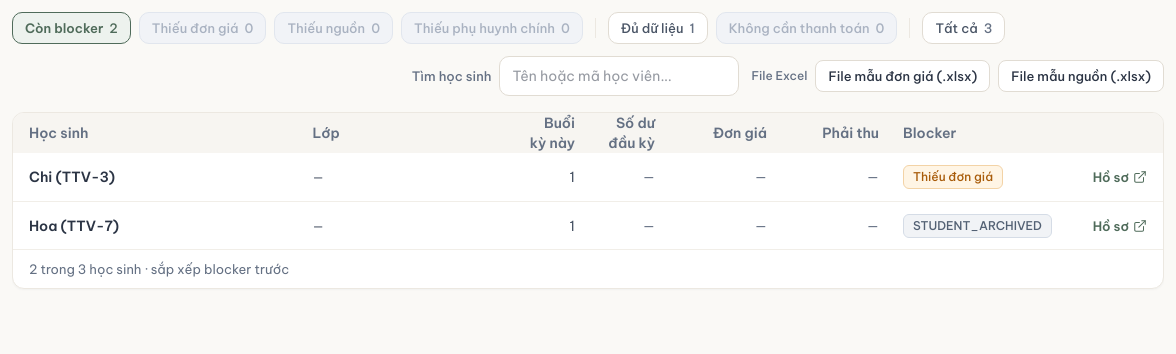
Test: TuitionReadinessTable · design 15a › shows an unknown blocker code as a neutral badge and never as ready
Click the button "Tất cả 3".
click(964, 28)  # box x1=922 y1=12 x2=1006 y2=44
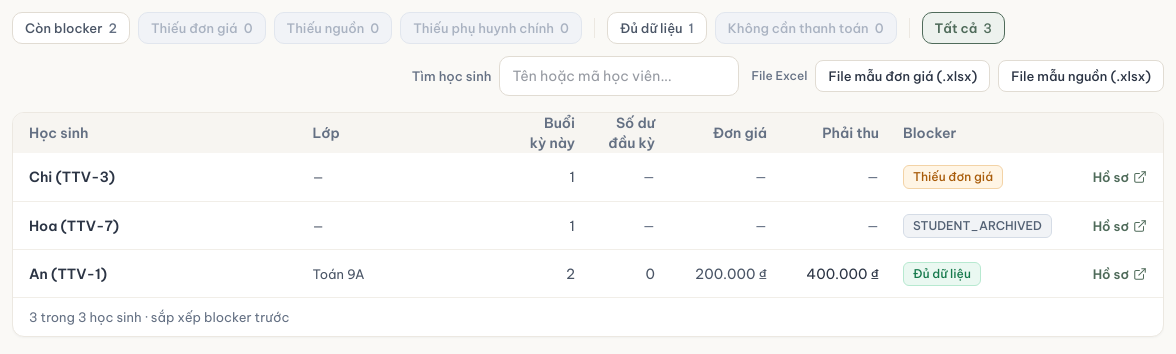
Expected: the text "Thiếu đơn giá" is shown, x1=903 y1=165 x2=1003 y2=189
Now the text "Đủ dữ liệu" is shown, box x1=903 y1=262 x2=981 y2=286
